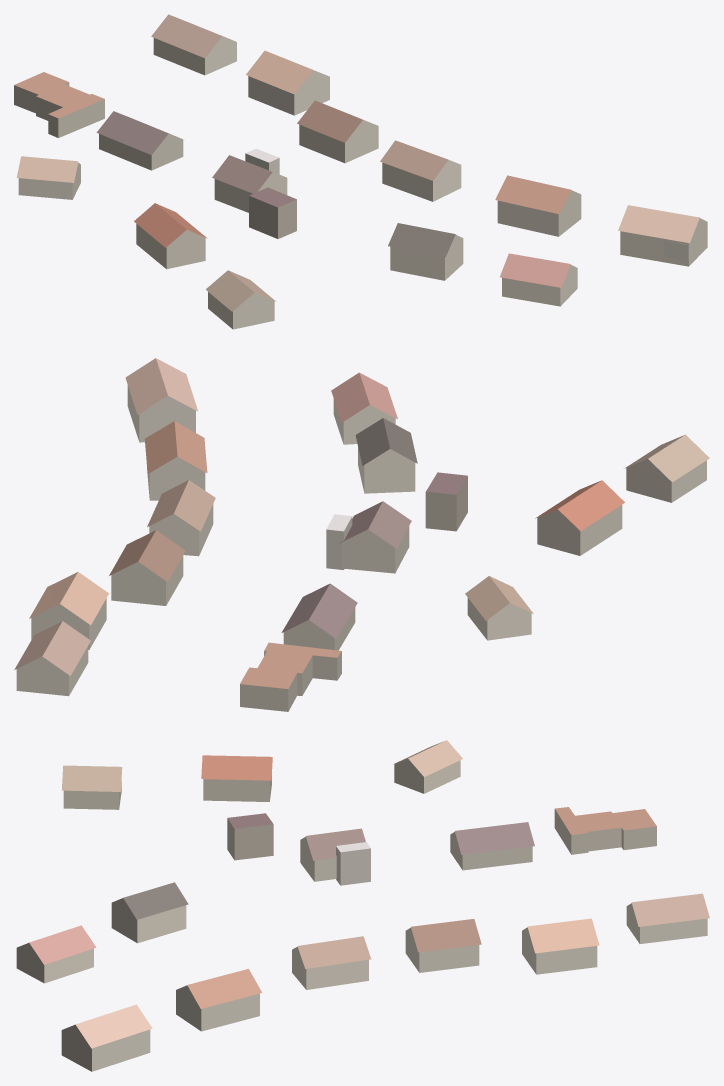
3 renders of one model, top to bottom at view 1: azimuth 30°, elevation 25°; view 2: azimuth 150°, elevation 25°; view 3: azimuth 270°, elevation 25°, orthographic. The views are drawn at different scales.
Parts seen in each view (by area): view 1: tuile; view 2: tuile; view 3: tuile.
Boxes of the visible parts, x1,y1,x2,y2 form: tuile: (14,14,707,329); tuile: (14,358,709,711); tuile: (16,740,709,1071).
Size of the model in its own units: 115 by 19.08 by 133.
